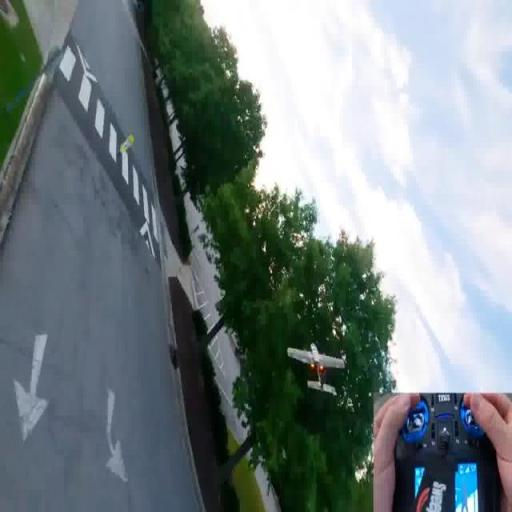uav: (285, 338, 347, 400)
